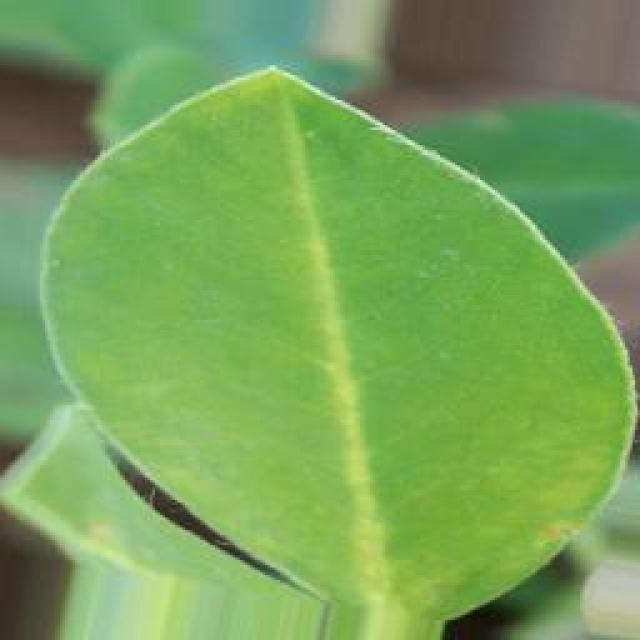Yellow_and_black_sigatoka: (51, 77, 596, 630)
